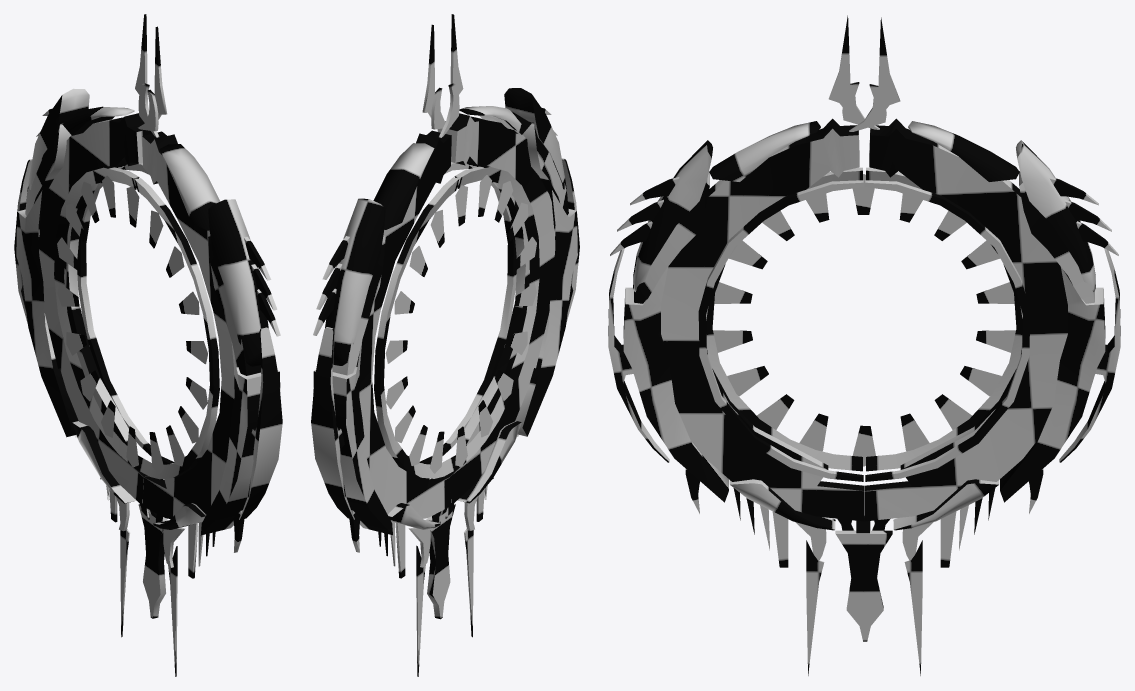
The model's file is galaxygate_deltaobj.obj.
The picture shows the model from 3 angles, left to right: view 1: azimuth 30°, elevation 25°; view 2: azimuth 150°, elevation 25°; view 3: azimuth 270°, elevation 25°; orthographic projection. The views are drawn at different scales.
Visible parts, largest first — view 1: galaxygate_delta; view 2: galaxygate_delta; view 3: galaxygate_delta.
Boxes of the visible parts, x1,y1,x2,y2 form: galaxygate_delta: (14, 14, 282, 676); galaxygate_delta: (311, 14, 579, 676); galaxygate_delta: (608, 15, 1120, 675).
Bounding box in the file's own units: 29.38 × 525 × 368.
1 material, 1 textured.
